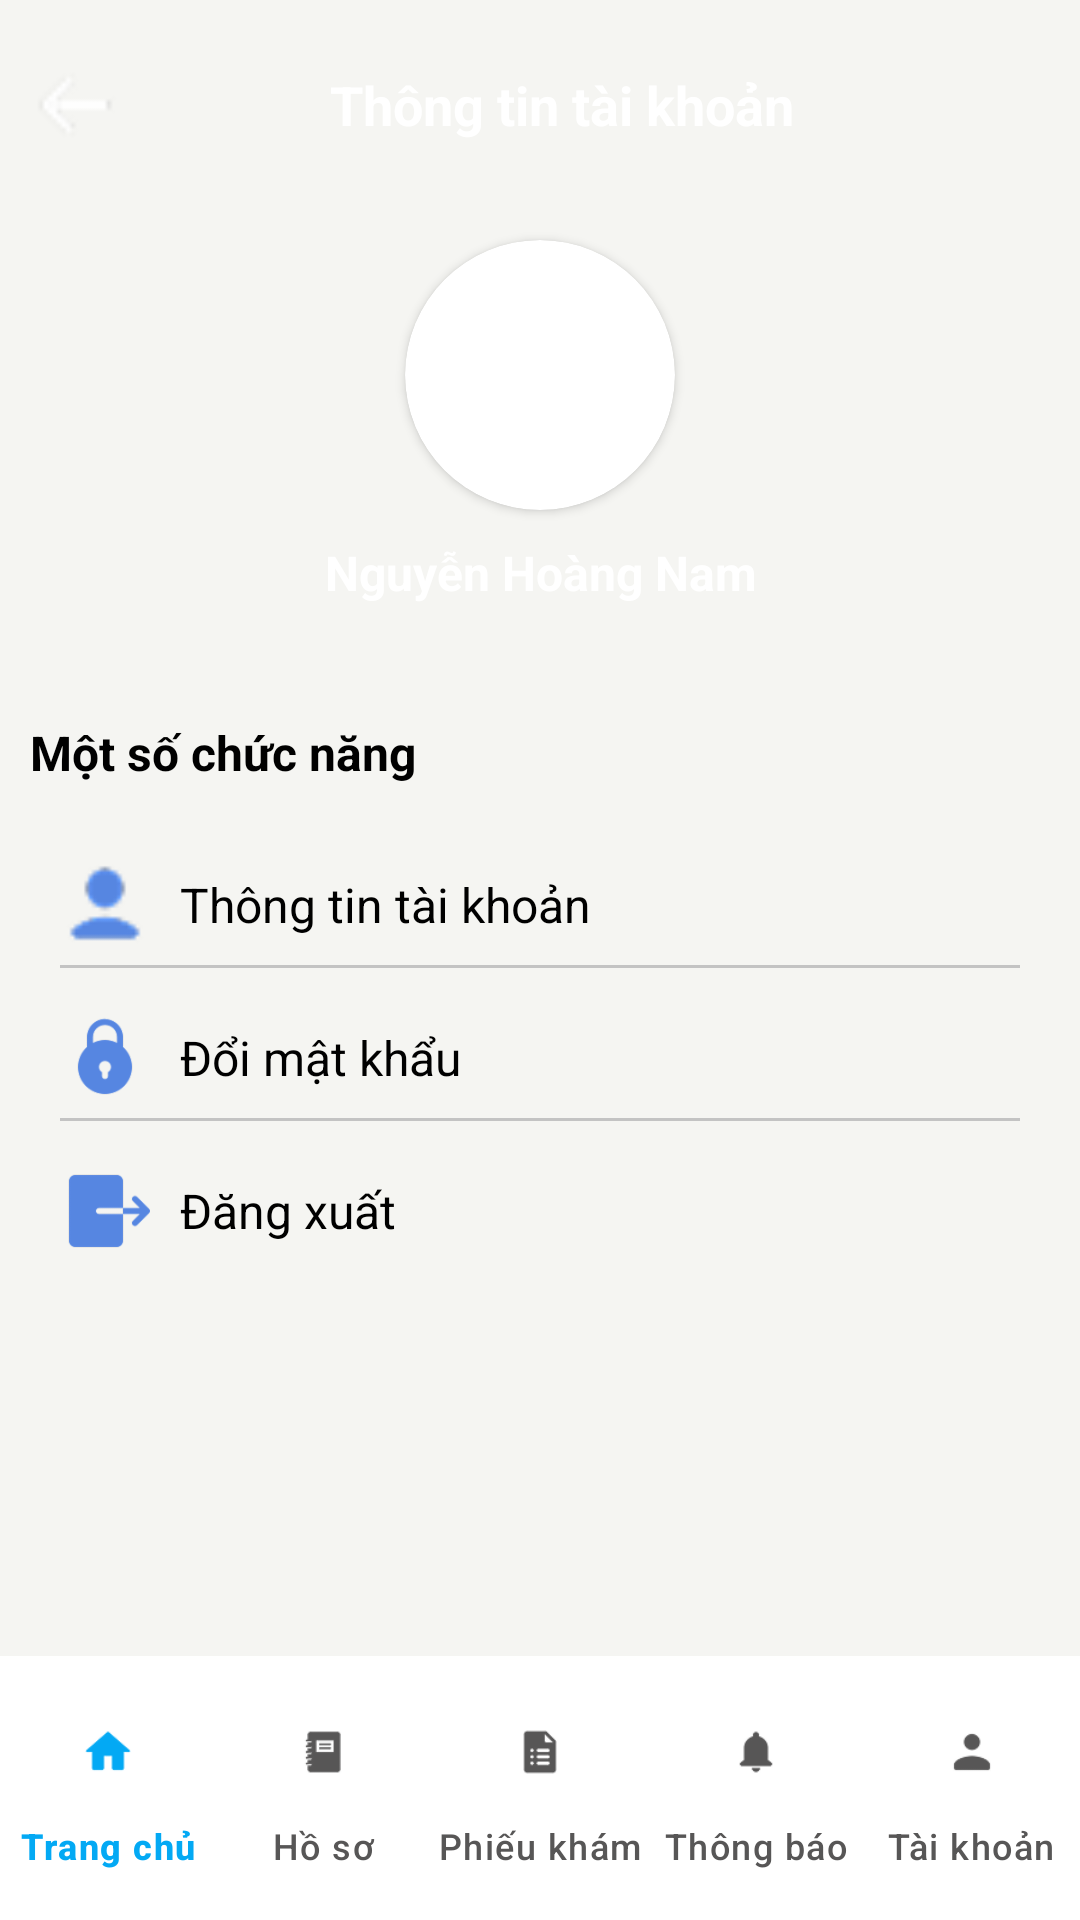

Icon bounding boxes for this 1080px×1920px phone screenshot, format (left=x1, top=y1, right=x2, bottom=y2):
lock: (left=78, top=1018, right=132, bottom=1094)
